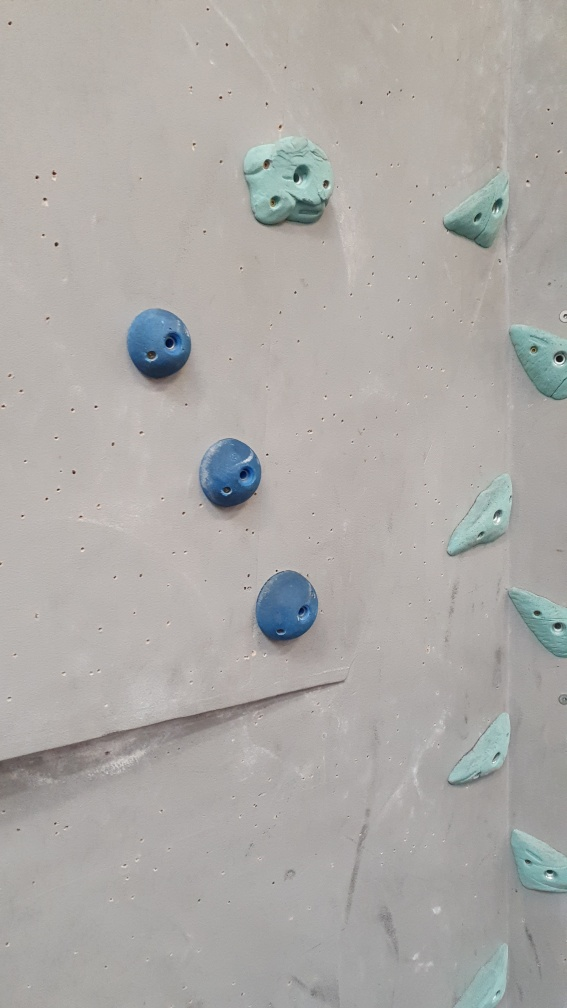Crimp: (444, 162, 513, 254), (446, 469, 515, 560), (498, 580, 567, 661), (505, 318, 567, 405), (450, 709, 514, 791), (450, 941, 508, 1007), (511, 827, 567, 891)
Sloper: (126, 305, 193, 387), (256, 568, 321, 645), (199, 434, 264, 508)
